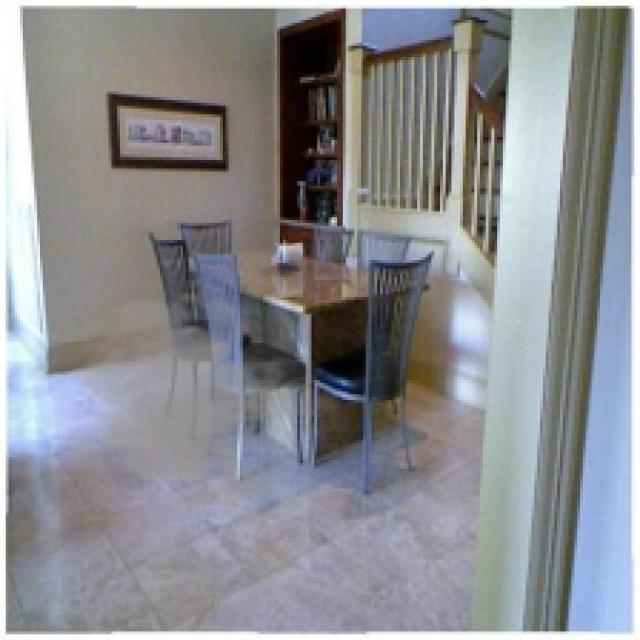Smoke: (69, 274, 348, 526)
